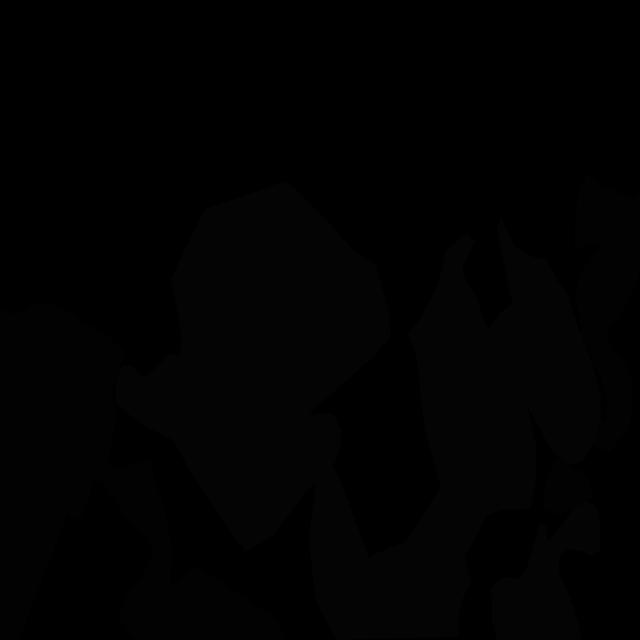cardboard: (0, 301, 125, 640), (67, 393, 199, 605), (575, 190, 640, 452), (118, 568, 284, 640), (574, 173, 633, 249), (542, 458, 593, 513)
soft_plastic: (309, 217, 600, 640), (116, 181, 390, 552), (491, 501, 600, 640)
